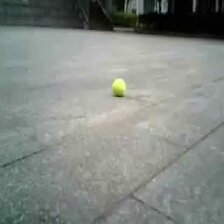tennis: (113, 80, 126, 95)
